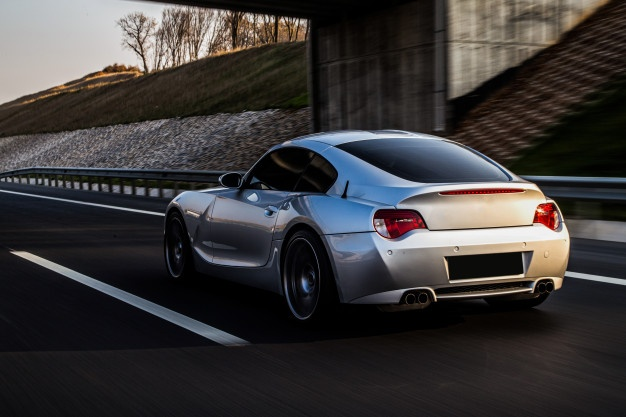car: (163, 129, 570, 331)
